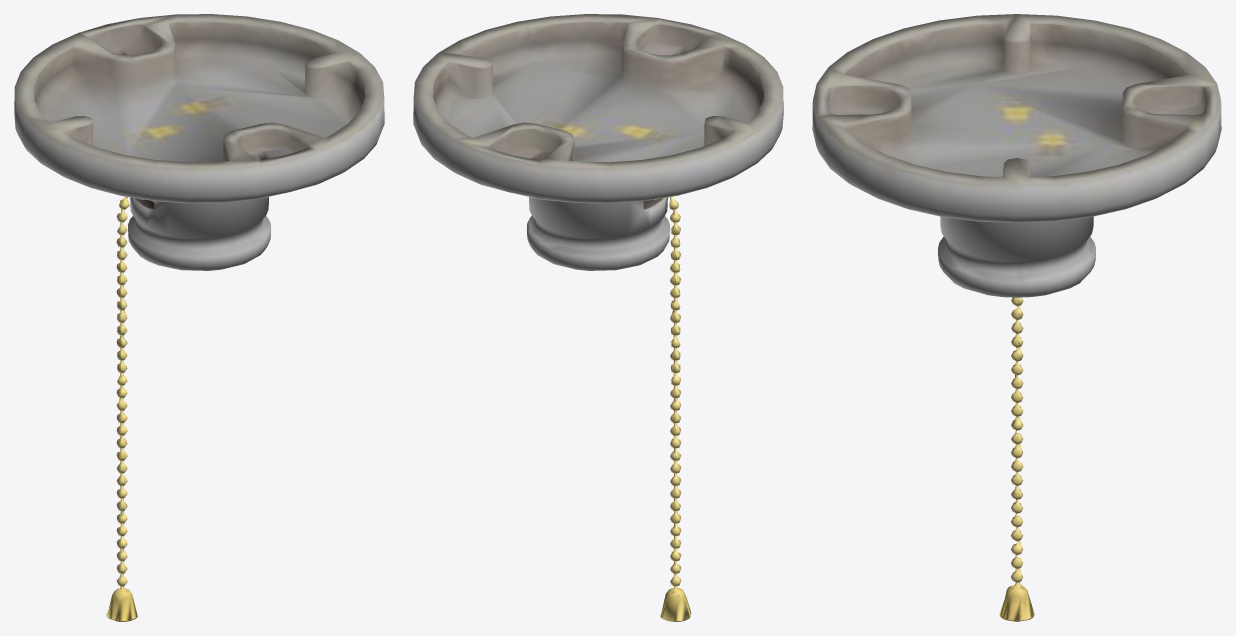
File: socket.glb
The picture shows the model from 3 angles, left to right: view 1: azimuth 30°, elevation 25°; view 2: azimuth 150°, elevation 25°; view 3: azimuth 270°, elevation 25°; orthographic projection. The views are drawn at different scales.
Parts seen in each view (by area): view 1: pull_chain_light_socket, pull_chain_light_socket_chain; view 2: pull_chain_light_socket, pull_chain_light_socket_chain; view 3: pull_chain_light_socket, pull_chain_light_socket_chain.
Boxes of the visible parts, left/top/right/bottom form: pull_chain_light_socket: left=14, top=14, right=384, bottom=270; pull_chain_light_socket_chain: left=106, top=196, right=137, bottom=621; pull_chain_light_socket: left=413, top=14, right=783, bottom=270; pull_chain_light_socket_chain: left=660, top=196, right=691, bottom=621; pull_chain_light_socket: left=812, top=14, right=1221, bottom=297; pull_chain_light_socket_chain: left=999, top=297, right=1034, bottom=621.
Size of the model in its own units: 0.1103 by 0.1653 by 0.1103.
Materials: 1 (1 with a texture image).
